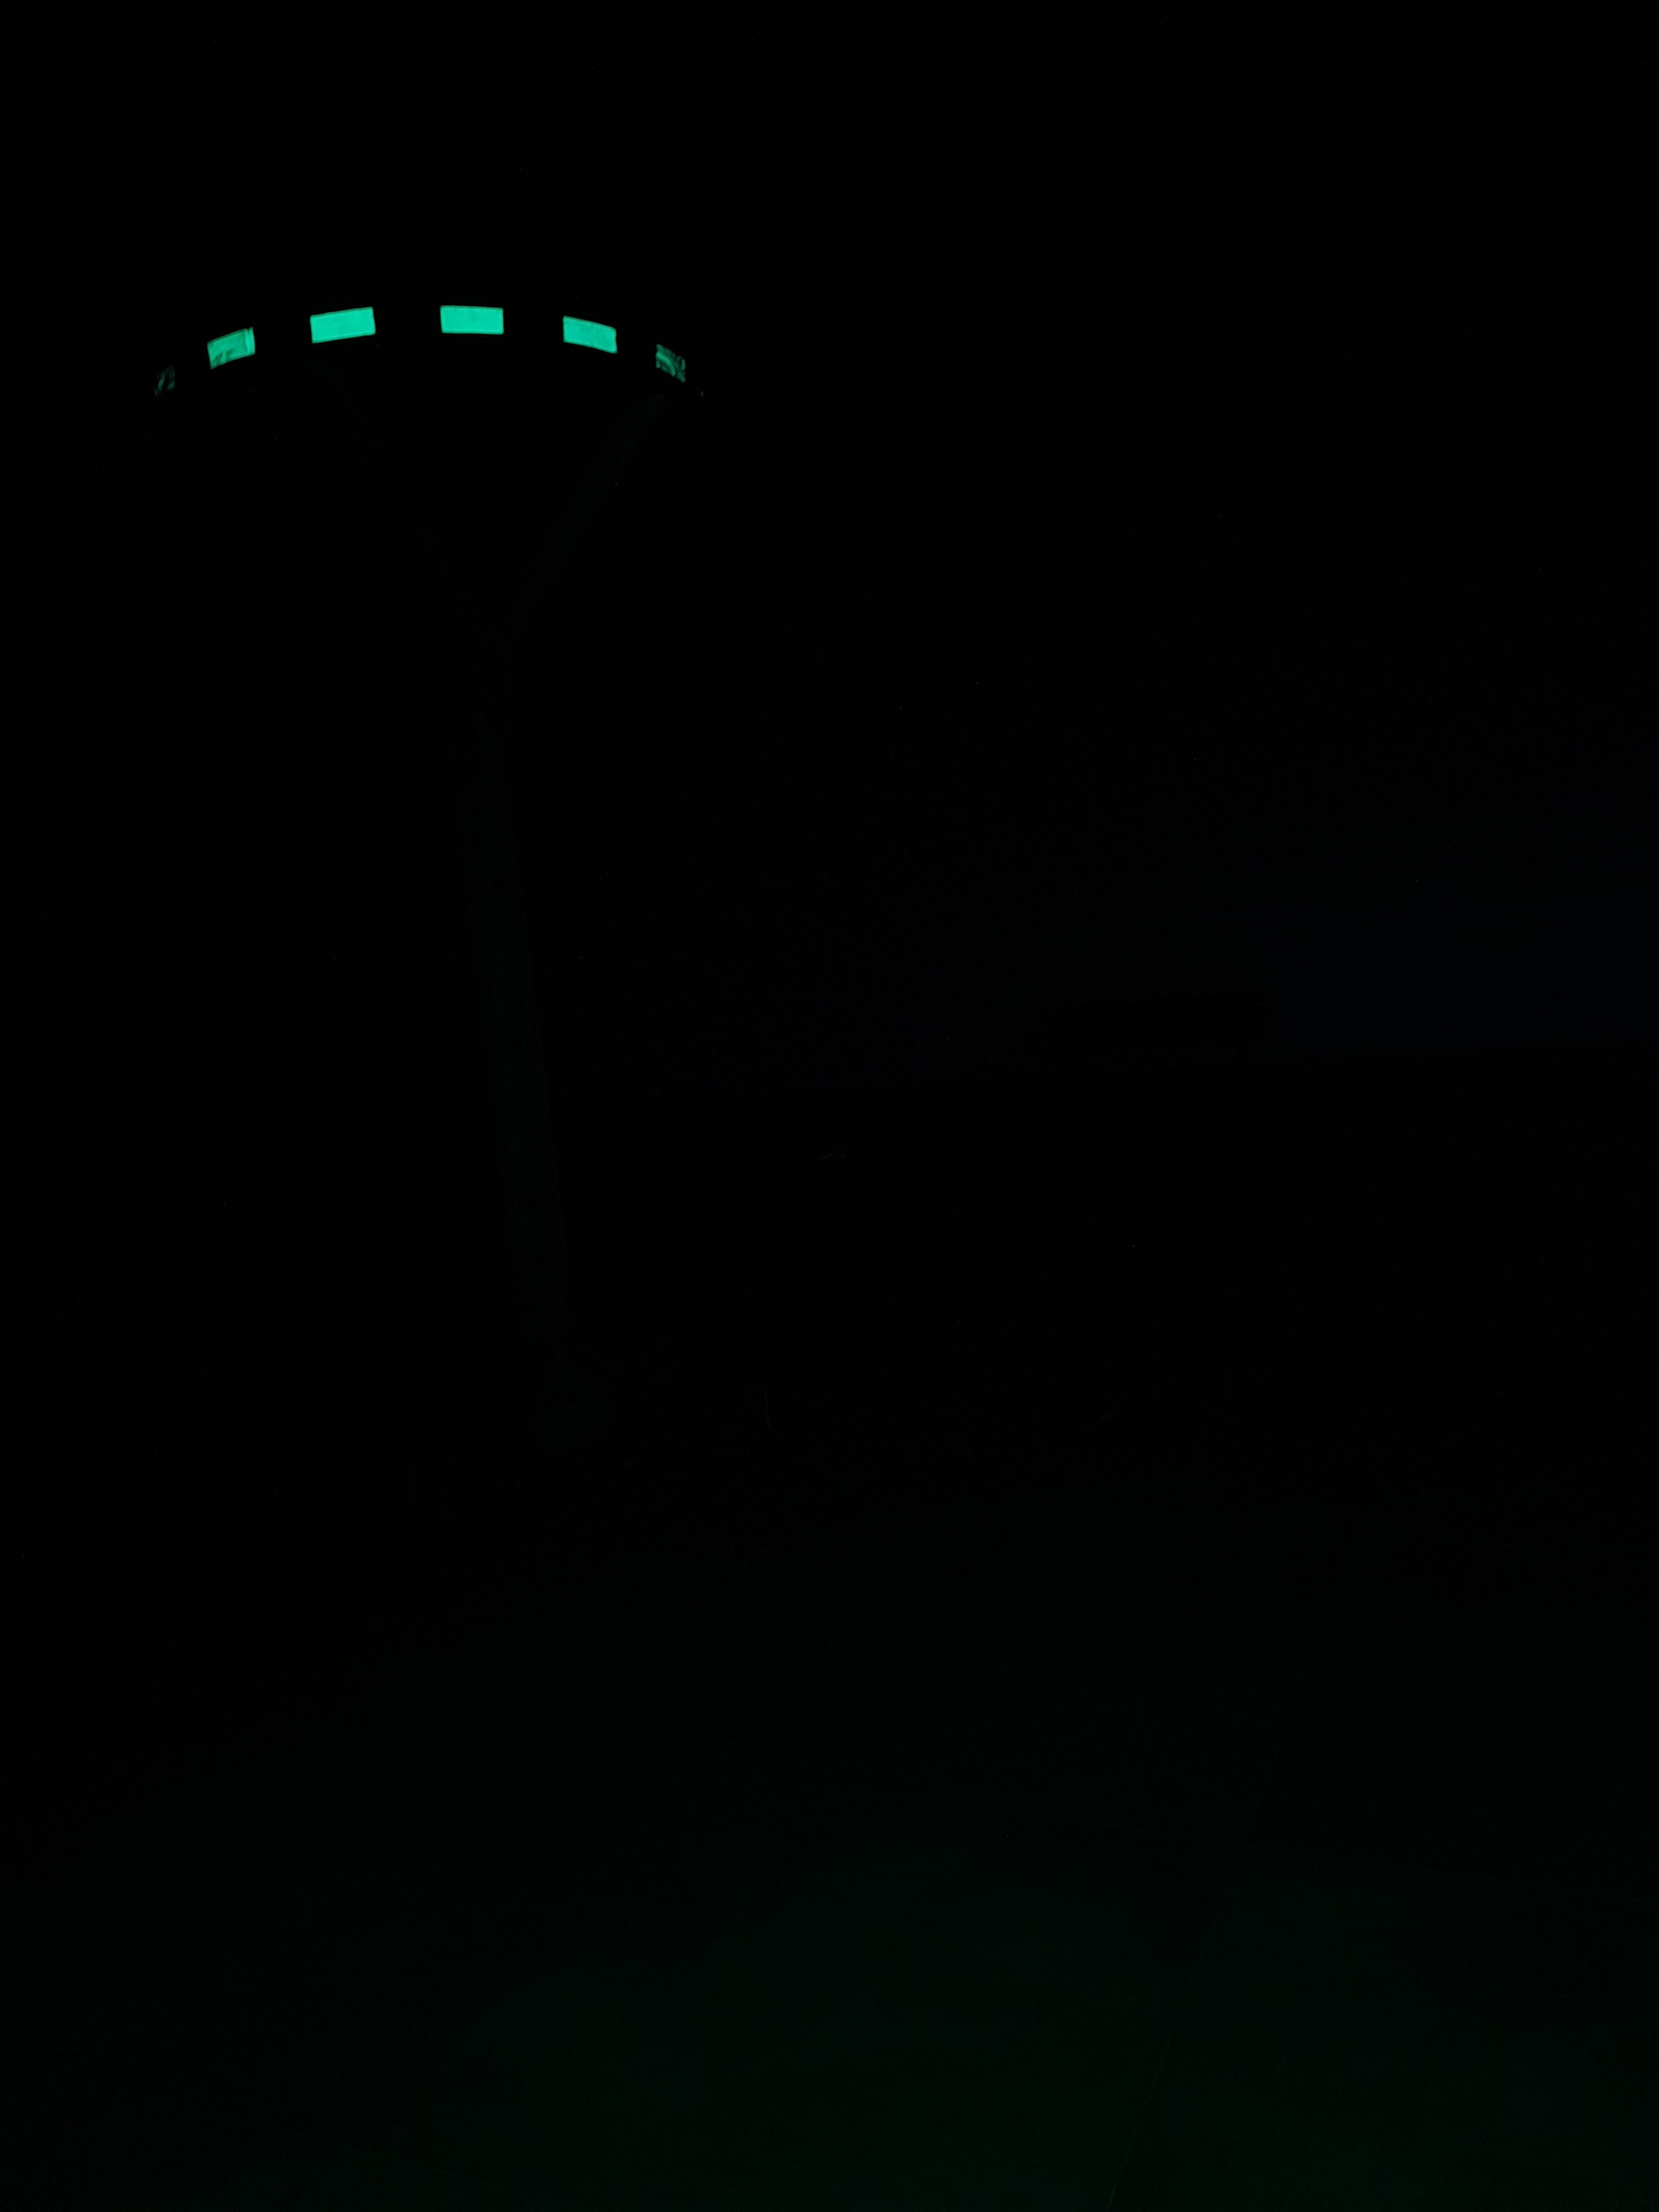hoop: (134, 298, 695, 404)
